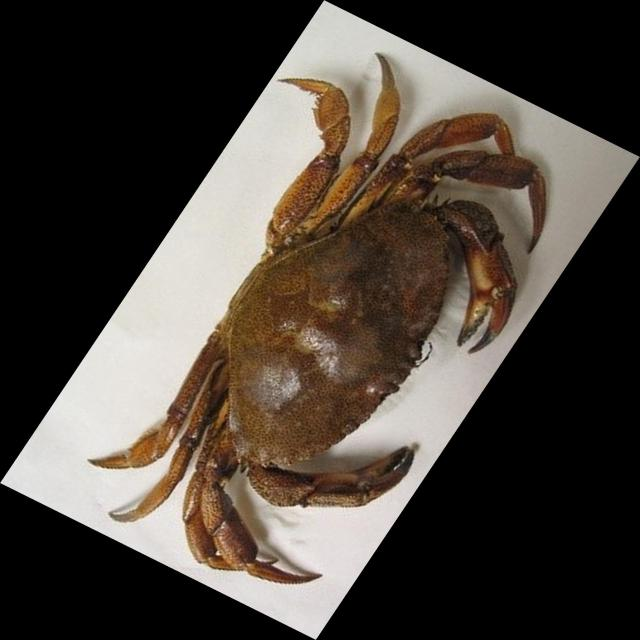Native Rock crab: (90, 55, 546, 584)
